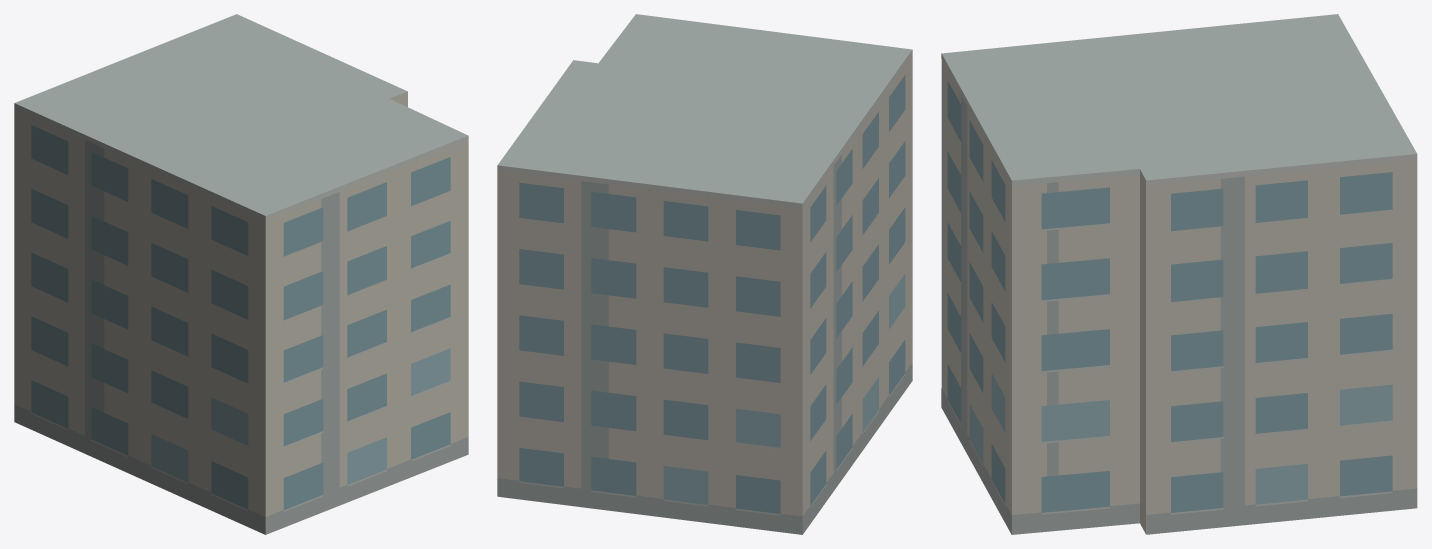
The model's file is survey-upis-32938527.glb.
The picture shows the model from 3 angles, left to right: view 1: azimuth 30°, elevation 25°; view 2: azimuth 150°, elevation 25°; view 3: azimuth 270°, elevation 25°; orthographic projection. The views are drawn at different scales.
Visible parts, largest first — view 1: survey-upis-32938527.tmp; view 2: survey-upis-32938527.tmp; view 3: survey-upis-32938527.tmp.
Boxes of the visible parts, x1,y1,x2,y2 form: survey-upis-32938527.tmp: [14, 14, 468, 534]; survey-upis-32938527.tmp: [497, 14, 912, 534]; survey-upis-32938527.tmp: [941, 14, 1417, 534].
Bounding box in the file's own units: 15.24 × 15.1 × 18.39.
